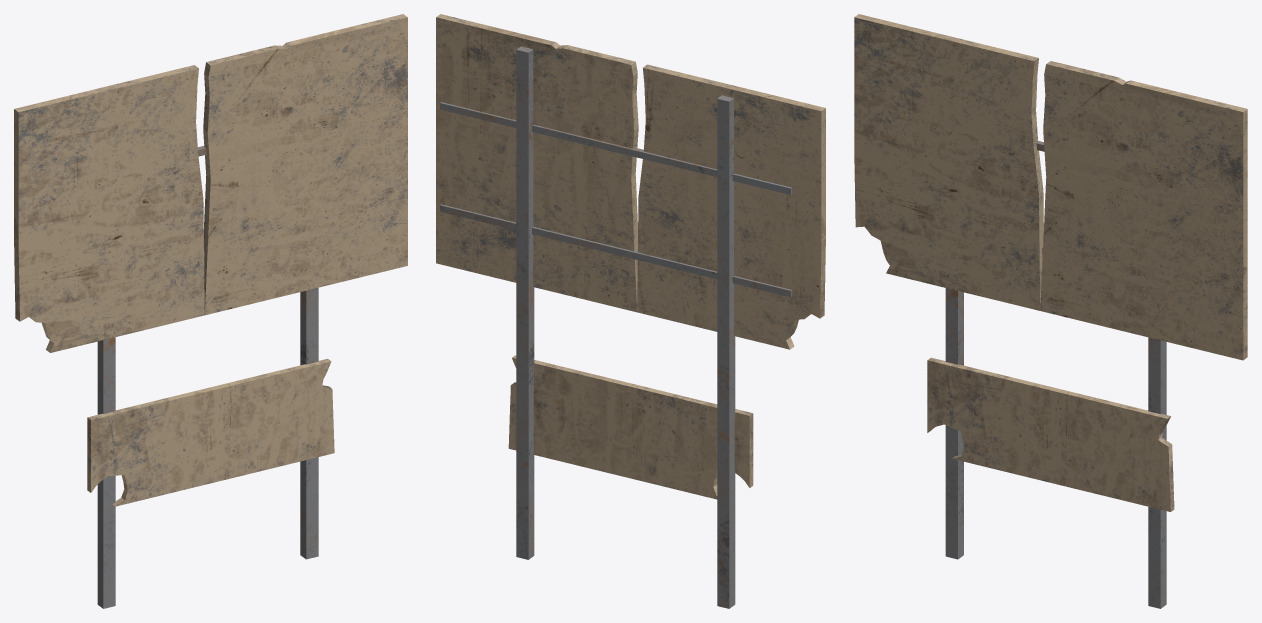
The model's file is worm billboard textured.fbx.
3 views of the same model, side by side, from view 1: azimuth 30°, elevation 25°; view 2: azimuth 150°, elevation 25°; view 3: azimuth 330°, elevation 25° (orthographic).
Parts seen in each view (by area): view 1: billboard, smaller_billboard, billboard_poles; view 2: billboard, smaller_billboard, billboard_poles, billboard_sides; view 3: billboard, smaller_billboard, billboard_poles.
Boxes of the visible parts, <box> form: billboard: <box>14,14,407,352</box>; smaller_billboard: <box>87,358,334,506</box>; billboard_poles: <box>97,287,318,608</box>; billboard: <box>436,14,825,349</box>; smaller_billboard: <box>508,355,753,499</box>; billboard_poles: <box>516,46,735,608</box>; billboard_sides: <box>440,102,791,297</box>; billboard: <box>854,14,1247,360</box>; smaller_billboard: <box>927,357,1174,511</box>; billboard_poles: <box>945,288,1166,608</box>.
Bounding box in the file's own units: 6.01 × 7.68 × 0.2505.
